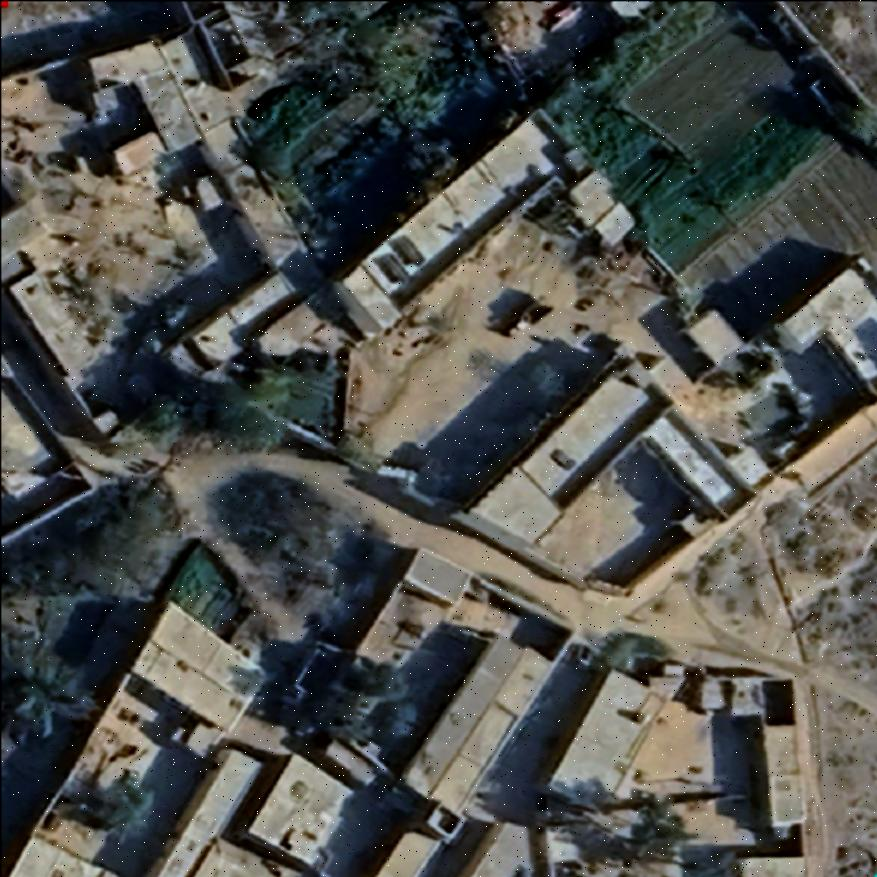Solarpanel: (389, 231, 425, 266), (374, 251, 408, 281), (547, 445, 575, 470)
